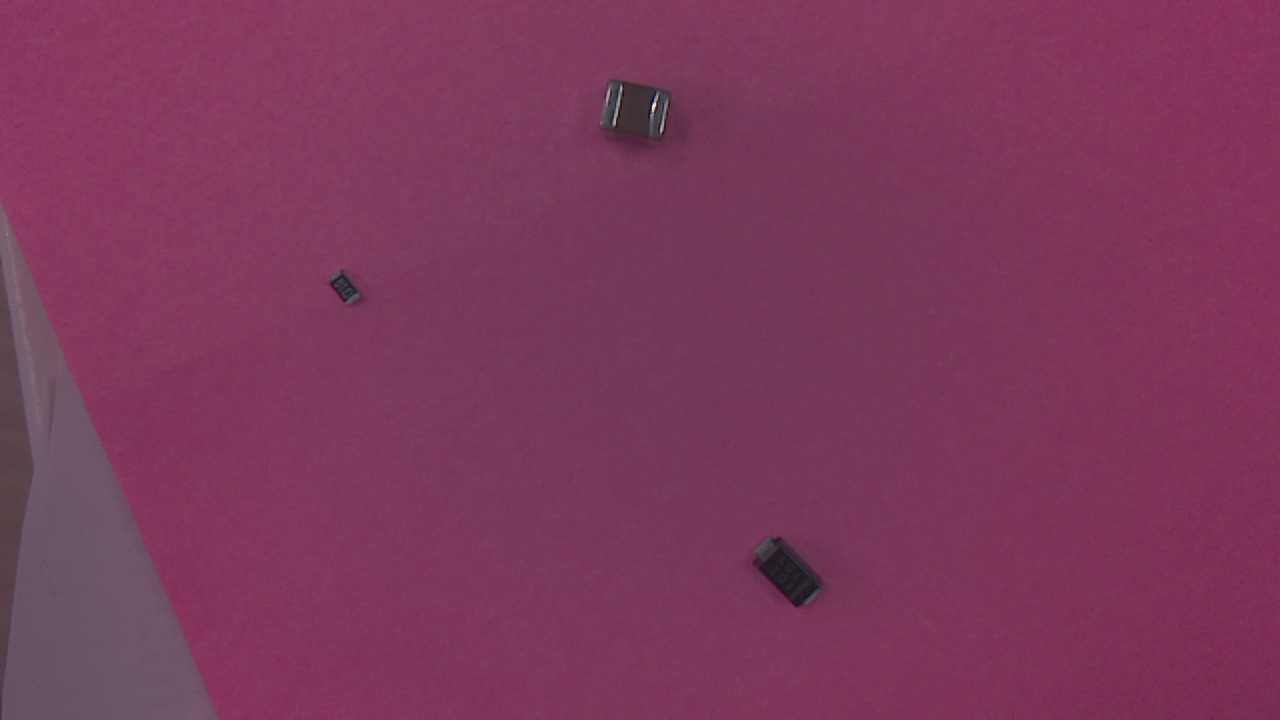Condensator: (600, 82, 680, 149)
Diode: (754, 542, 835, 617)
Resistor: (327, 273, 371, 313)
